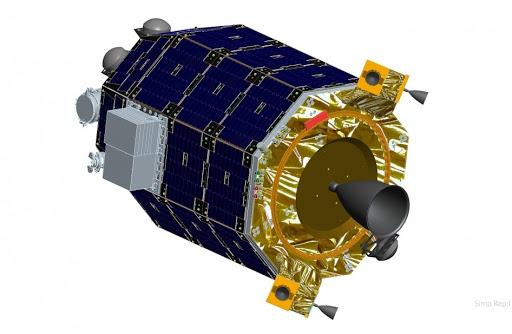body: (73, 20, 412, 286)
solar: (93, 20, 360, 282)
thruster: (333, 177, 412, 240), (408, 87, 431, 107), (317, 303, 340, 322)
